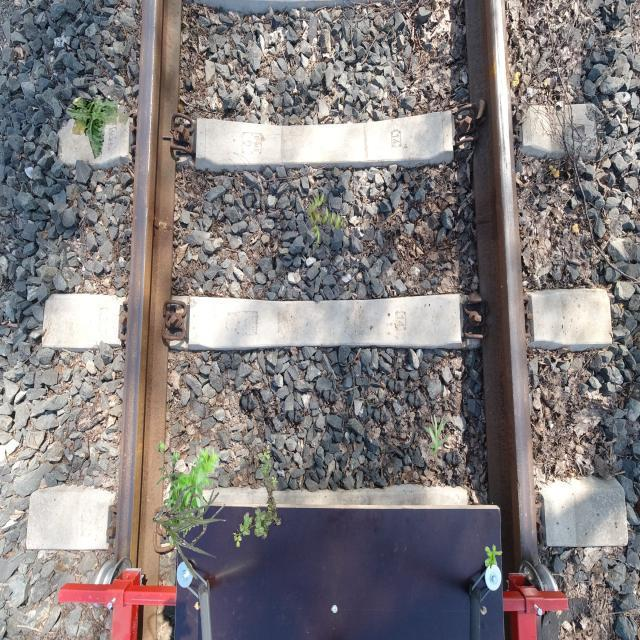Plant: (157, 440, 222, 548), (153, 486, 226, 580), (233, 444, 282, 548), (66, 97, 130, 159), (306, 192, 348, 246), (424, 413, 451, 455), (485, 545, 502, 569)
